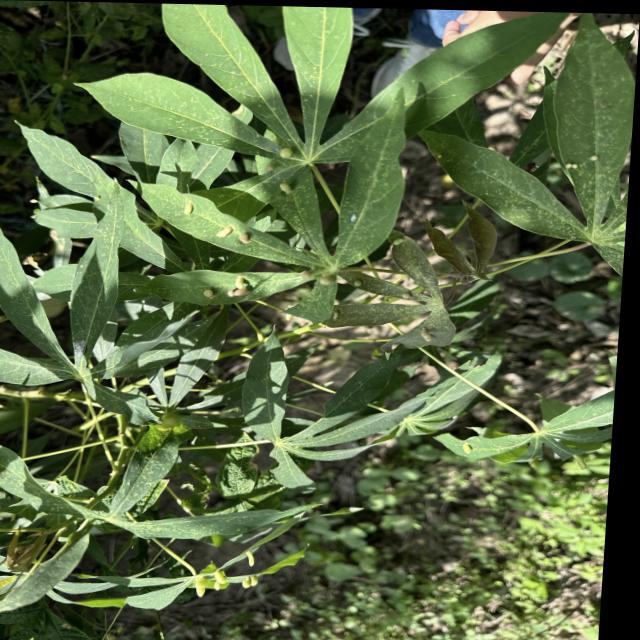Mosca: (203, 274, 263, 305), (216, 210, 249, 249), (159, 185, 197, 216), (271, 170, 302, 207), (429, 158, 465, 189), (383, 314, 413, 350), (258, 130, 294, 157)
